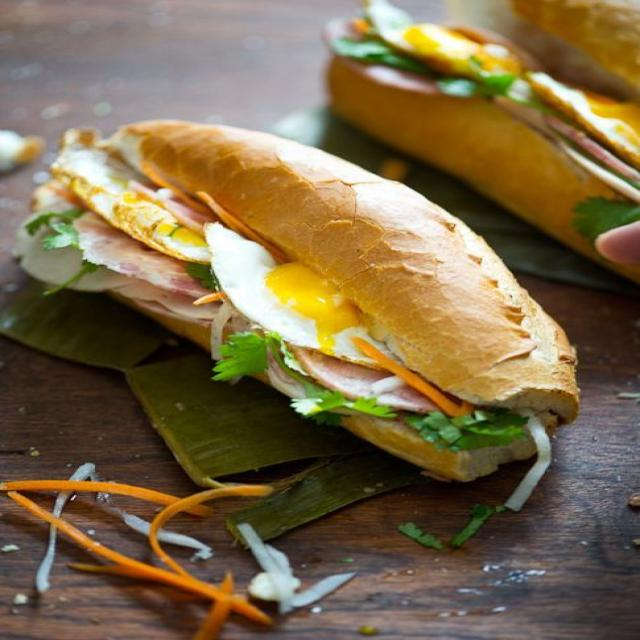banh mi: (33, 121, 577, 509)
